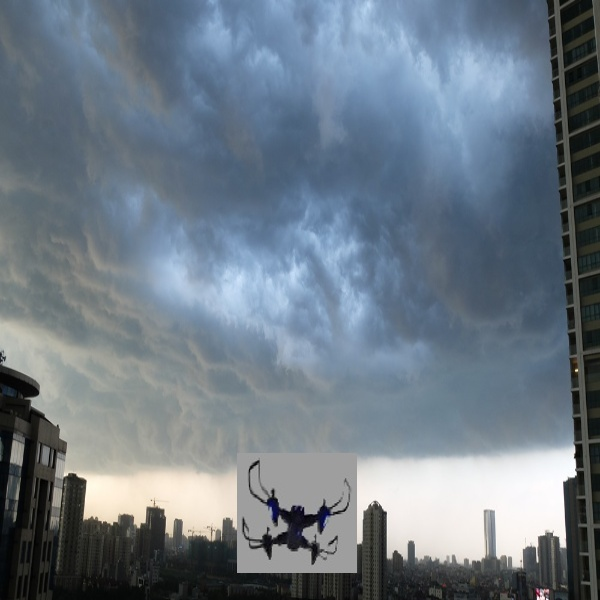drone: (235, 462, 360, 575)
